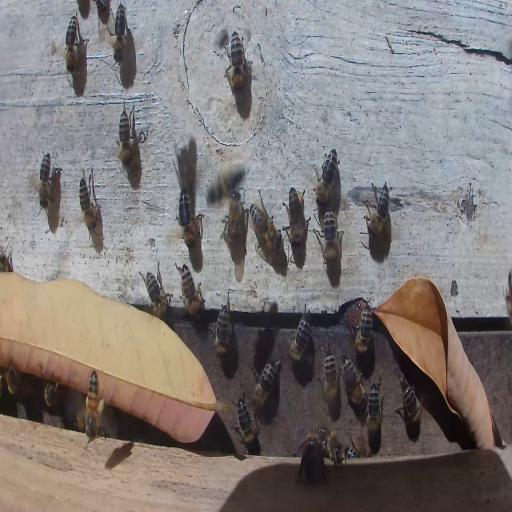bee: (203, 157, 247, 209), (250, 198, 280, 252), (365, 179, 391, 240), (176, 262, 204, 318), (285, 185, 307, 256), (84, 368, 106, 438), (313, 148, 338, 206), (304, 424, 344, 460), (288, 304, 312, 364), (78, 172, 100, 237), (142, 268, 172, 315), (236, 397, 260, 454), (398, 377, 424, 428), (322, 206, 342, 271), (177, 186, 197, 249), (252, 364, 278, 411), (211, 302, 232, 360), (301, 437, 329, 480), (226, 190, 246, 250), (118, 102, 134, 176), (342, 354, 363, 410), (354, 304, 376, 356), (228, 30, 245, 94), (111, 1, 127, 65), (38, 150, 51, 211), (324, 352, 338, 405), (65, 14, 77, 74), (367, 380, 380, 434), (44, 379, 60, 409), (5, 365, 20, 396), (1, 248, 13, 272)
